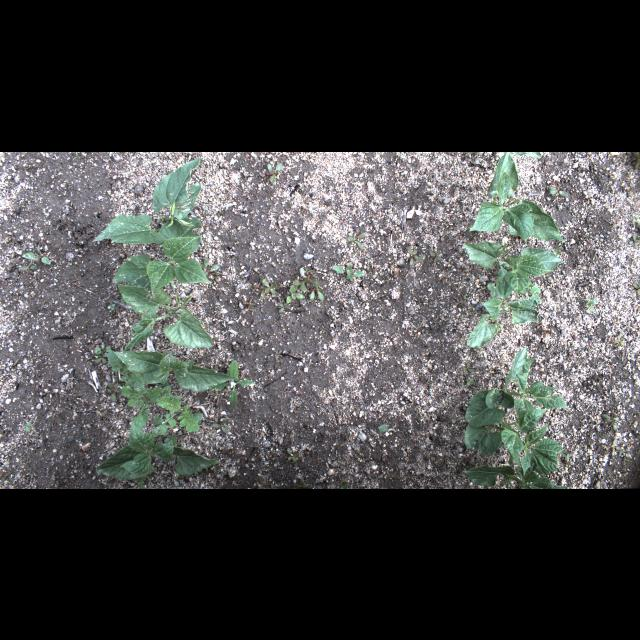crop: (464, 346, 572, 476), (92, 155, 202, 251), (466, 151, 566, 243), (96, 418, 220, 478), (118, 283, 214, 351), (112, 235, 215, 298), (460, 238, 566, 296), (467, 266, 538, 348), (114, 350, 238, 390), (462, 447, 568, 488)
weed: (106, 349, 162, 431), (152, 385, 204, 437), (210, 358, 256, 408), (292, 266, 324, 300), (254, 273, 278, 297), (22, 244, 50, 264), (332, 263, 366, 279), (264, 162, 282, 184), (600, 408, 618, 430), (286, 284, 306, 302), (346, 232, 366, 250), (406, 246, 424, 266), (106, 382, 122, 402), (550, 180, 568, 196), (213, 418, 229, 432), (430, 248, 442, 262), (94, 352, 110, 362), (287, 448, 297, 462), (19, 262, 37, 268)
